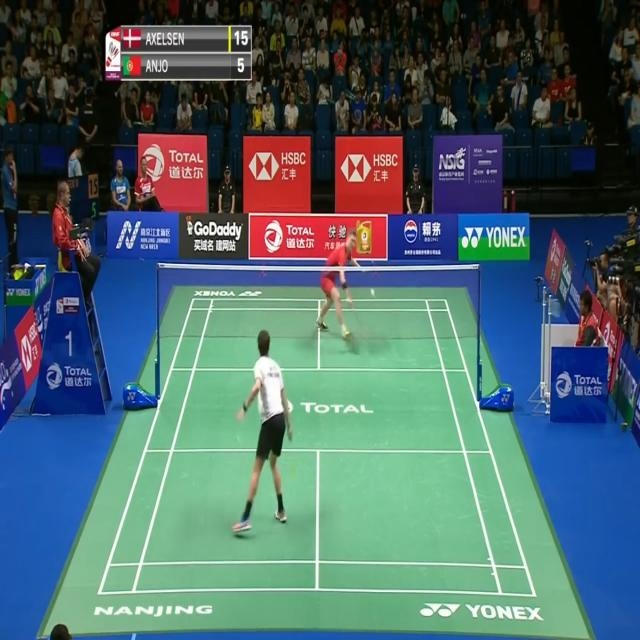Player1: (231, 327, 297, 545)
Player2: (311, 228, 371, 349)
